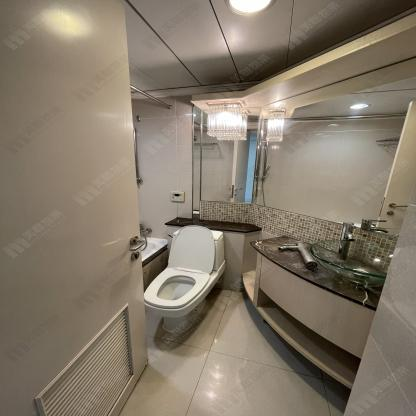Faucet: (339, 219, 356, 242)
Toilet: (143, 227, 227, 332)
Toilet Sink: (314, 239, 396, 289)
